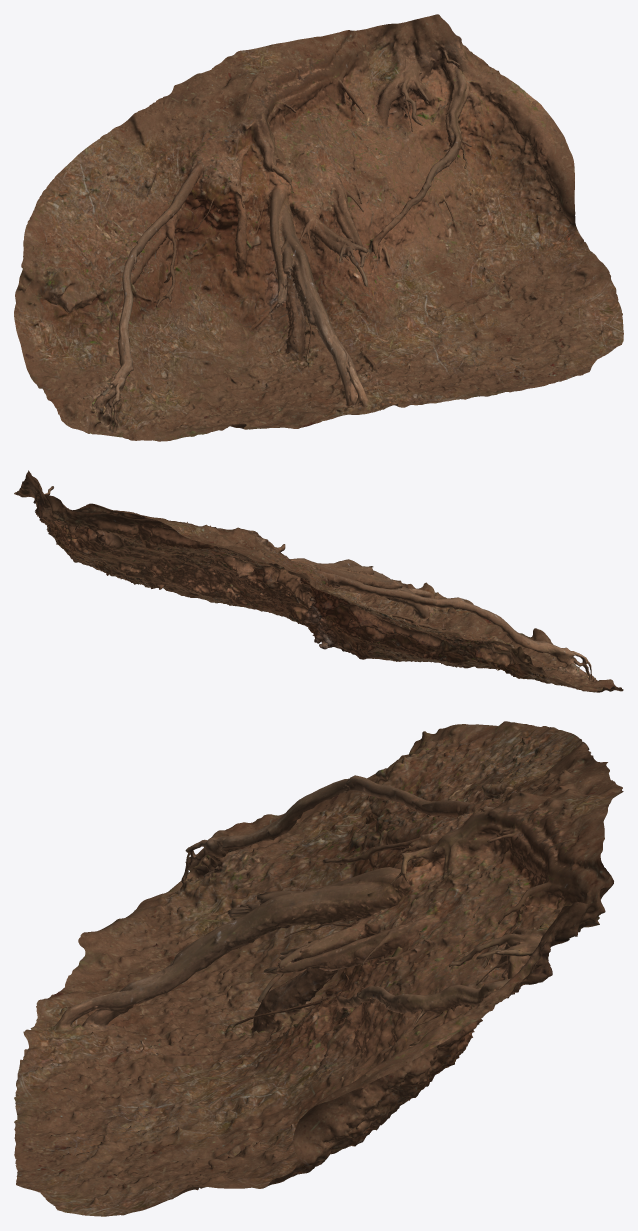
File: root_cluster_01_2k.fbx
3 renders of one model, top to bottom at view 1: azimuth 30°, elevation 25°; view 2: azimuth 150°, elevation 25°; view 3: azimuth 270°, elevation 25°, orthographic. The views are drawn at different scales.
Parts seen in each view (by area): view 1: root_cluster_01; view 2: root_cluster_01; view 3: root_cluster_01.
Part boxes in pixels (x1=…): root_cluster_01: x1=14, y1=14, x2=623, y2=441; root_cluster_01: x1=14, y1=470, x2=623, y2=692; root_cluster_01: x1=14, y1=721, x2=623, y2=1216.
Bounding box in the file's own units: 412 × 151 × 268.
1 material, 1 textured.
